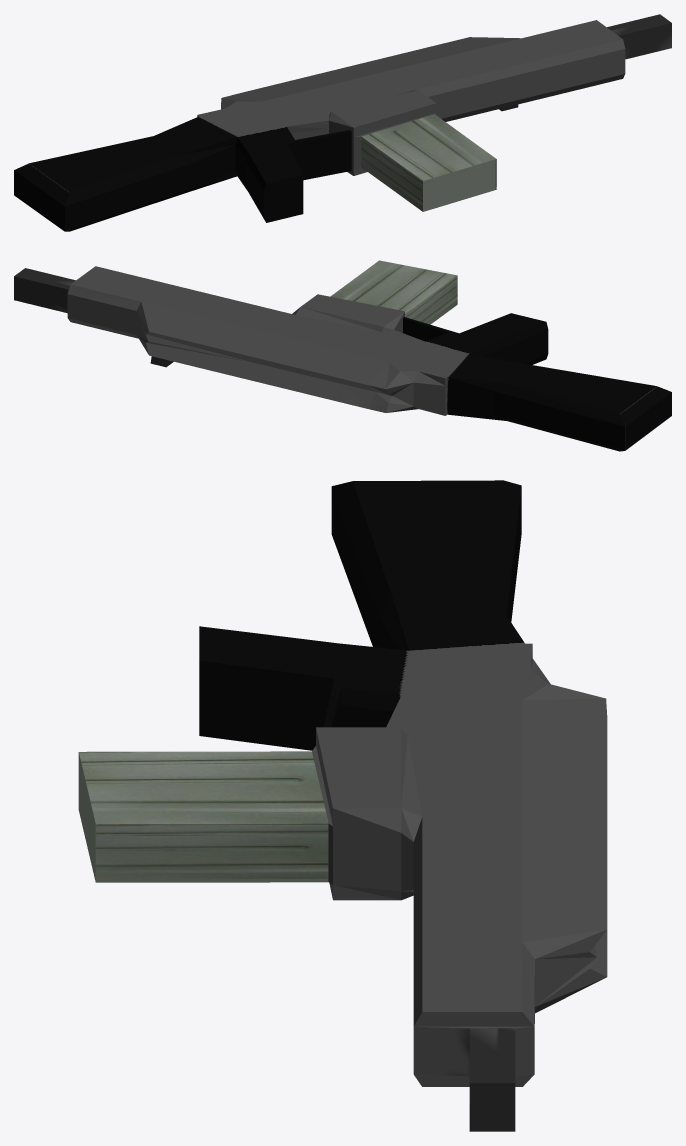
File: rifle1.obj
3 renders of one model, top to bottom at view 1: azimuth 30°, elevation 25°; view 2: azimuth 150°, elevation 25°; view 3: azimuth 270°, elevation 25°, orthographic. The views are drawn at different scales.
Parts seen in each view (by area): view 1: Cube; view 2: Cube; view 3: Cube.
Boxes of the visible parts, <box> form: Cube: <box>14,14,671,231</box>; Cube: <box>14,260,671,451</box>; Cube: <box>78,480,607,1131</box>.
Size of the model in its own units: 13.75 by 1.33 by 5.13.
Materials: 1 (1 with a texture image).
